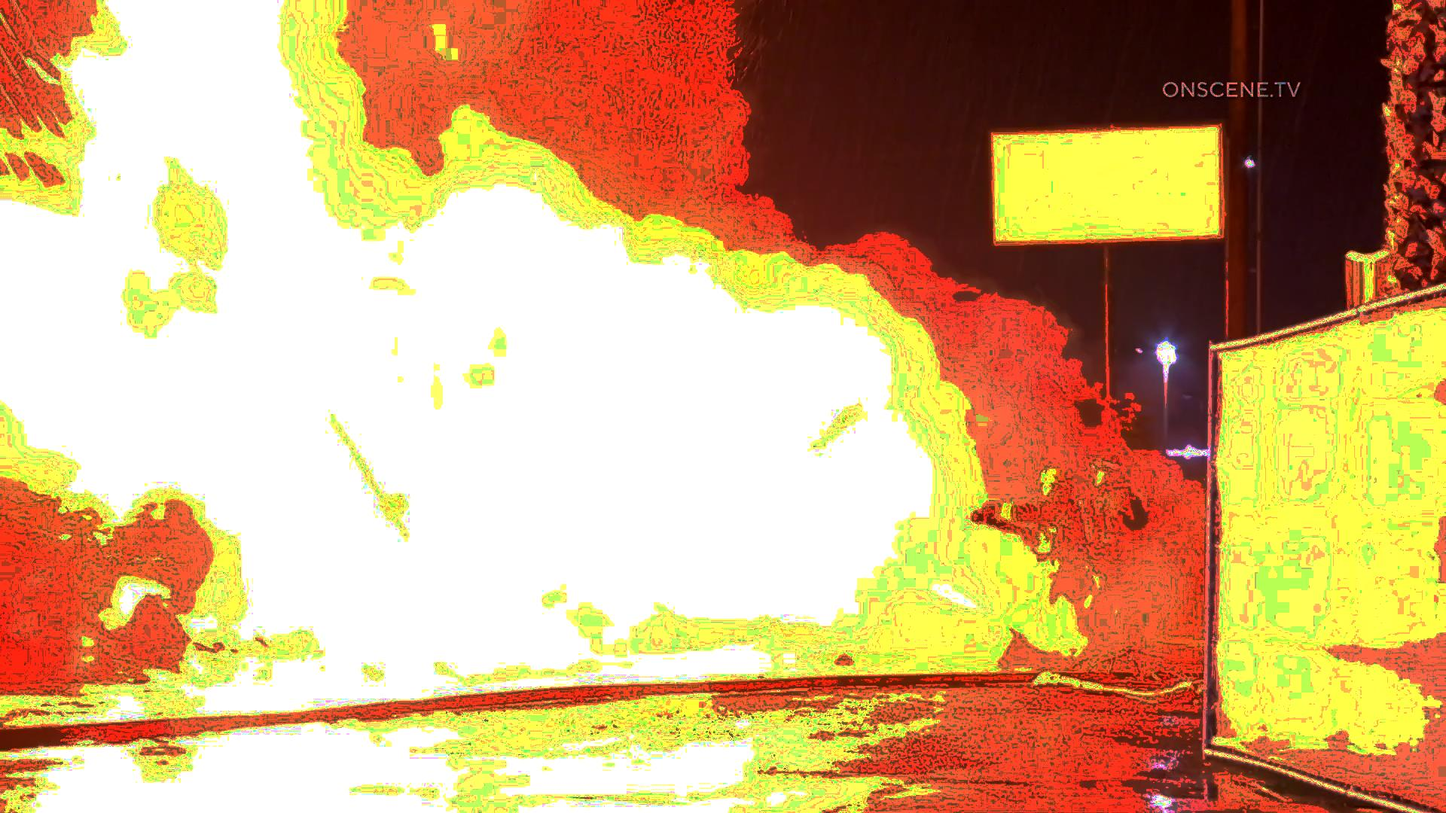fire: (0, 0, 953, 668)
